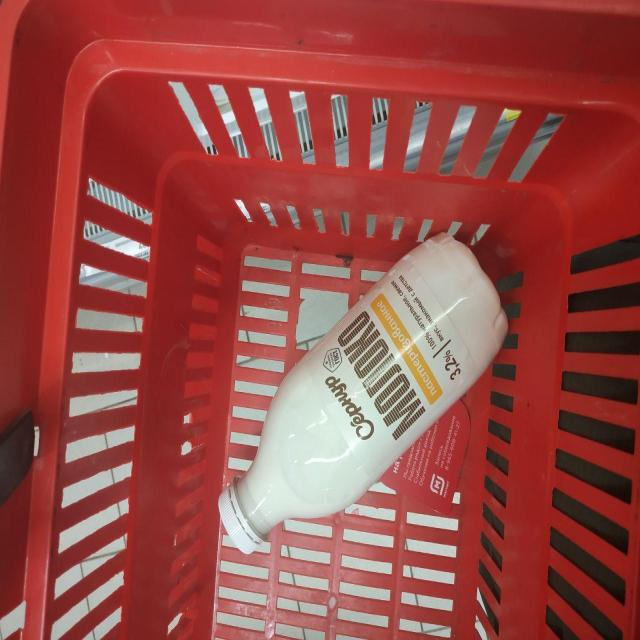milk: (133, 258, 458, 640)
